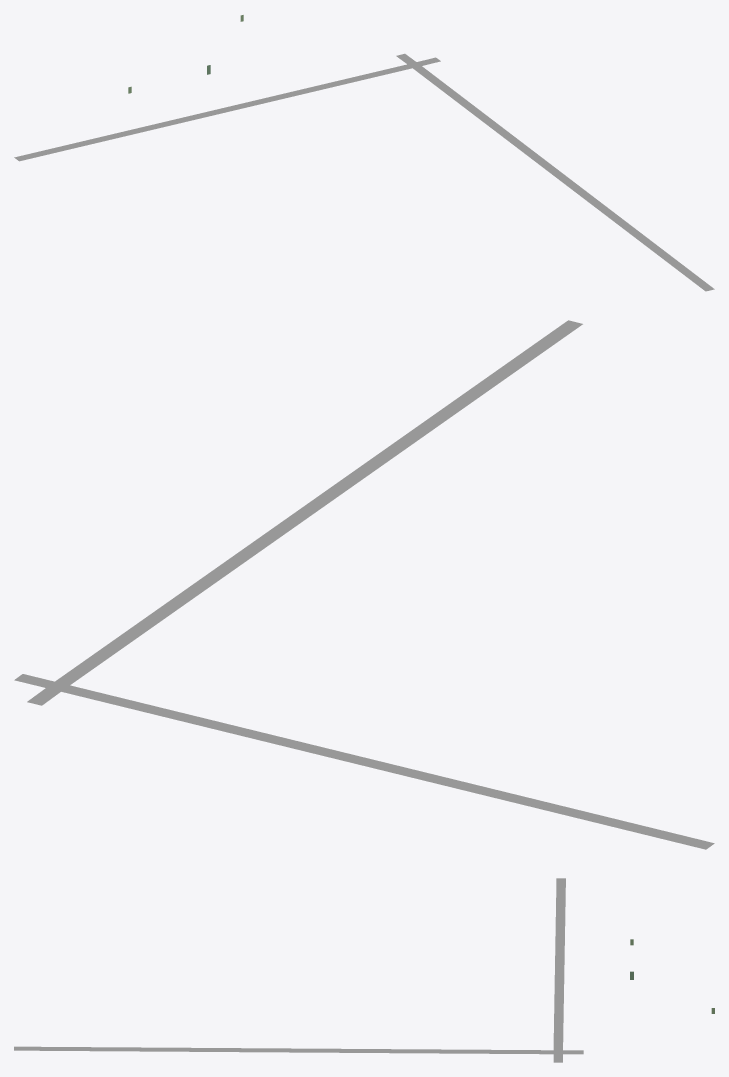
3 renders of one model, top to bottom at view 1: azimuth 30°, elevation 25°; view 2: azimuth 150°, elevation 25°; view 3: azimuth 270°, elevation 25°, orthographic. The views are drawn at different scales.
Size of the model in its own units: 320 by 7.4 by 517.
